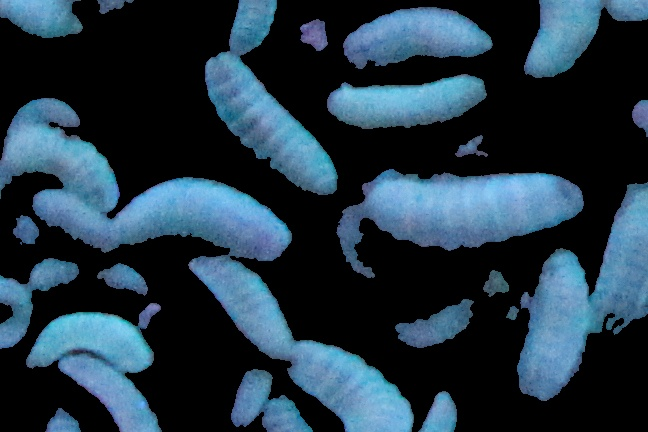dog: (8, 112, 120, 212), (58, 356, 158, 432), (31, 191, 120, 250), (15, 91, 94, 136), (218, 364, 273, 425)
larvae: (196, 48, 348, 203), (363, 158, 589, 251), (94, 161, 294, 264), (312, 64, 504, 145), (183, 244, 307, 369), (282, 335, 417, 432), (335, 2, 501, 79), (515, 235, 584, 402), (24, 312, 163, 382), (591, 175, 648, 341), (510, 1, 607, 84), (1, 1, 94, 43), (227, 1, 284, 64)
